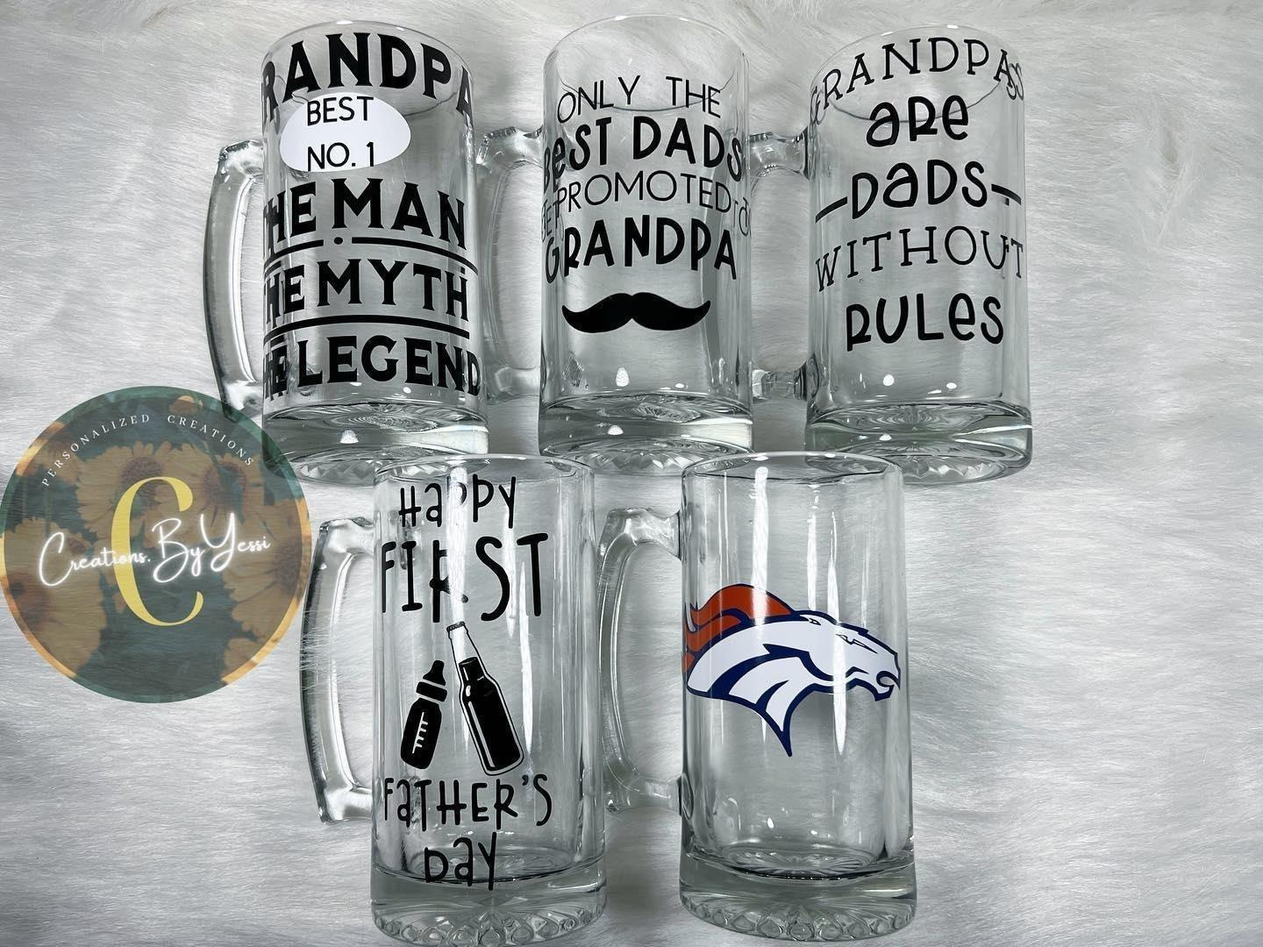glass-mug: (587, 454, 923, 946), (297, 461, 617, 946), (189, 18, 486, 487), (740, 20, 1038, 487), (460, 1, 754, 462)
